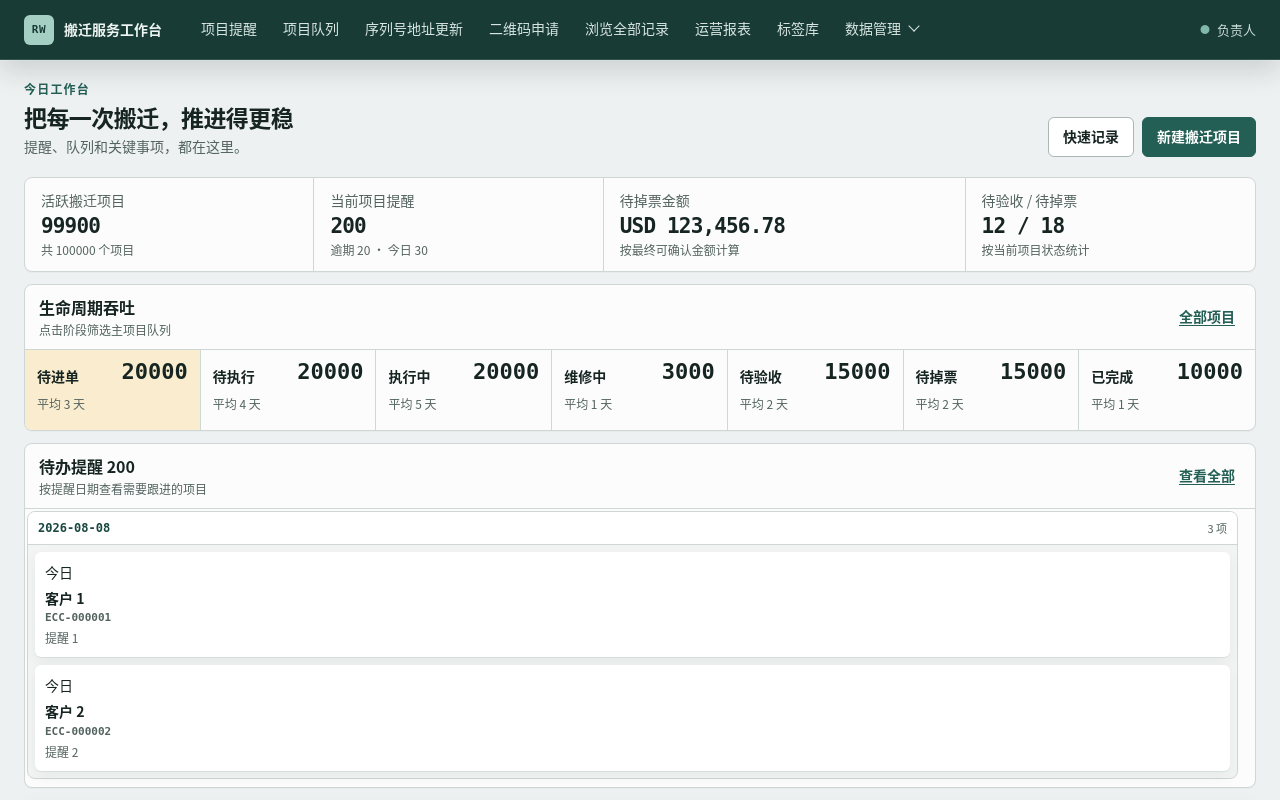
Test case: Oracle #10 bounded workbench renderer › 验收事实不提供原位编辑，有后续依赖时明确保留原事实
Click the button "浏览全部记录".
click(627, 30)  # box x1=572 y1=0 x2=682 y2=59
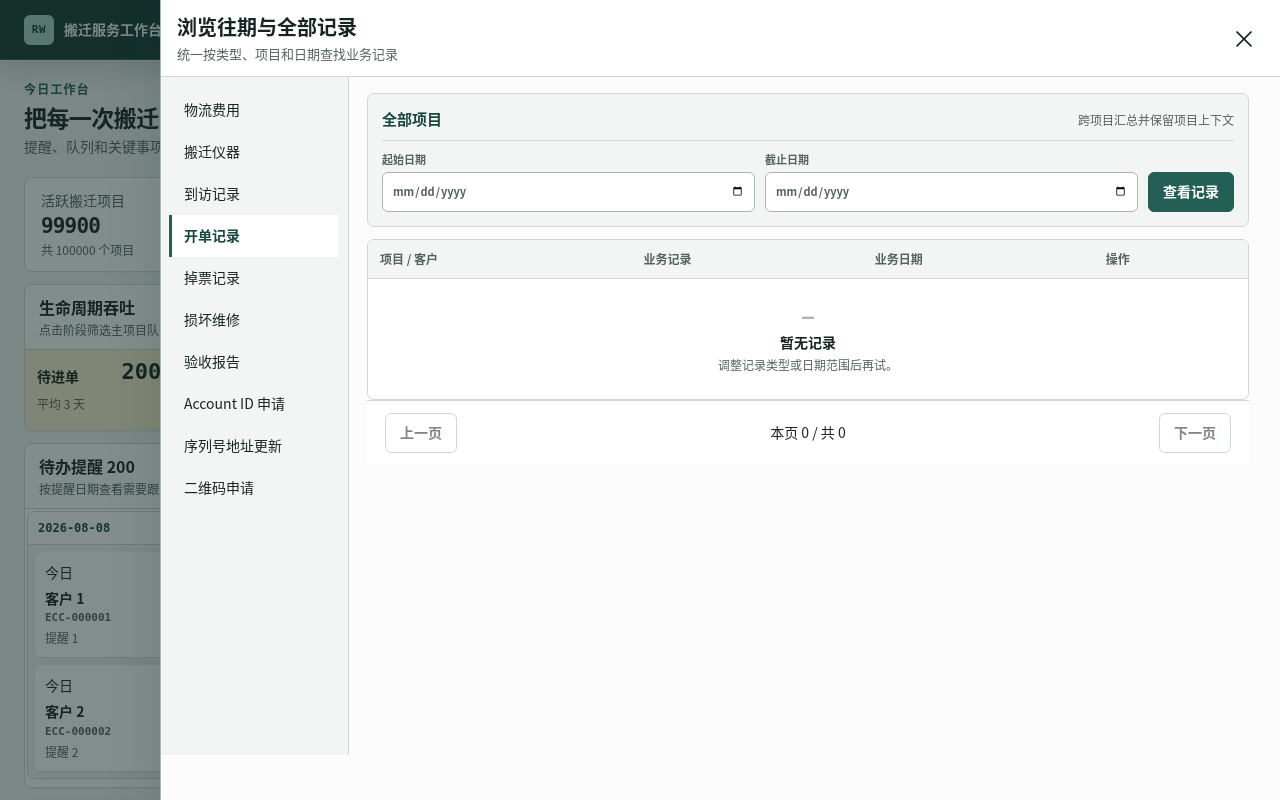
Click the tab "验收报告".
click(254, 362)  # box x1=169 y1=340 x2=338 y2=382
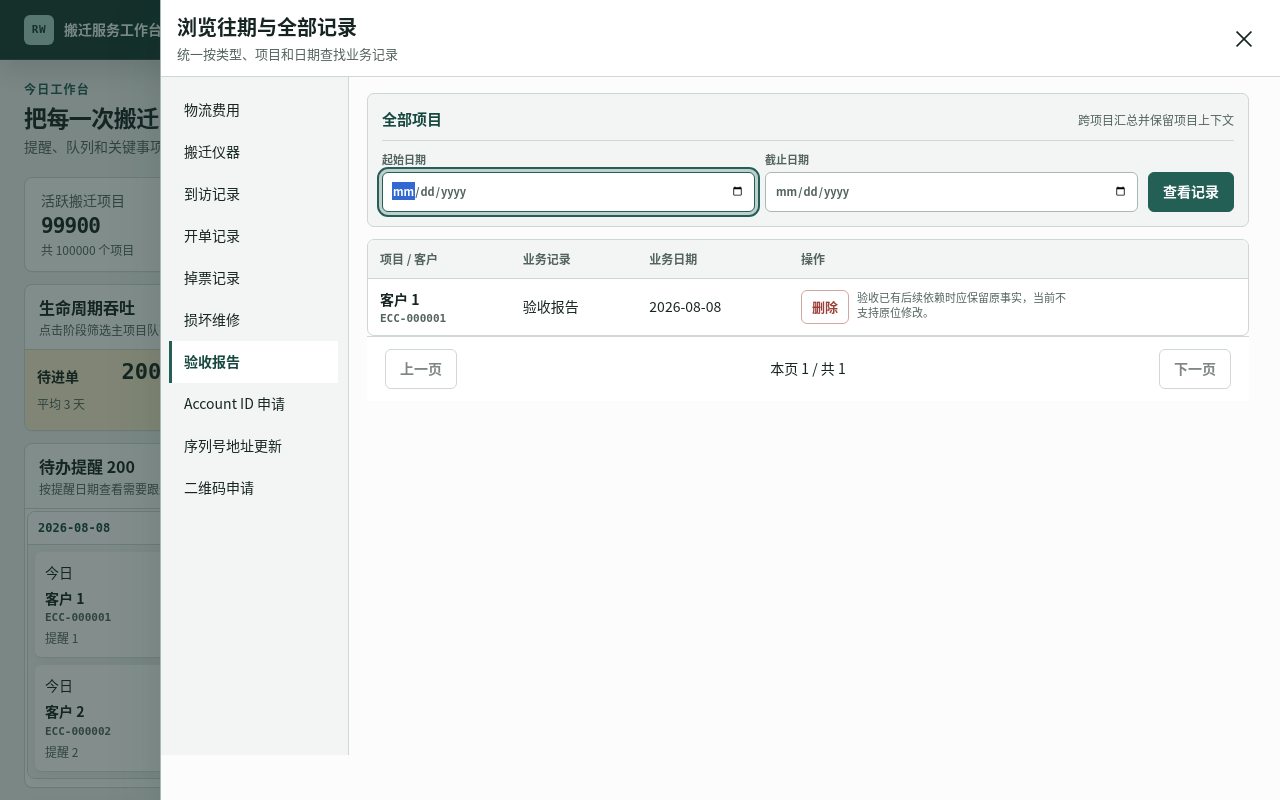
Check: the row that starts with "客户 1" does not show "从项目资料继续更正", box x1=368 y1=278 x2=1248 y2=334
Check: the row that starts with "客户 1" shows "验收已有后续依赖时应保留原事实，当前不支持原位修改。", box x1=857 y1=288 x2=1066 y2=320
